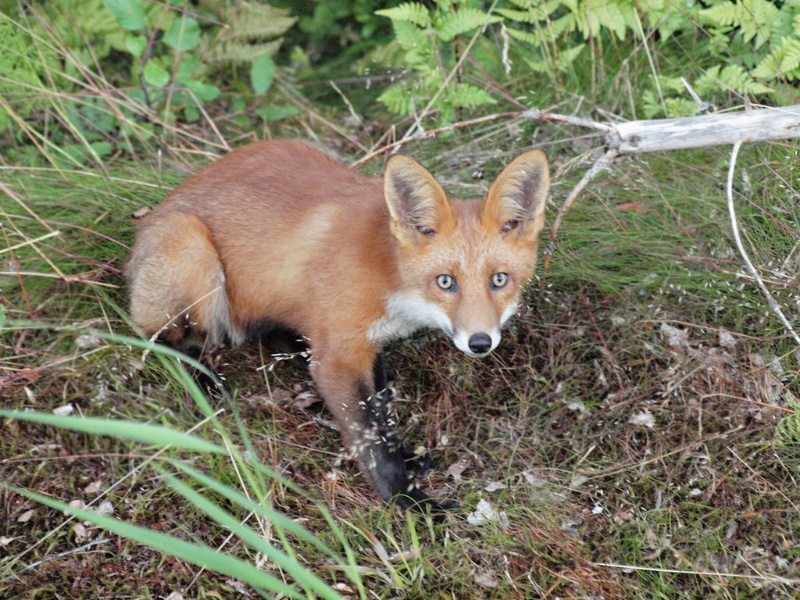fox: (125, 131, 554, 491)
